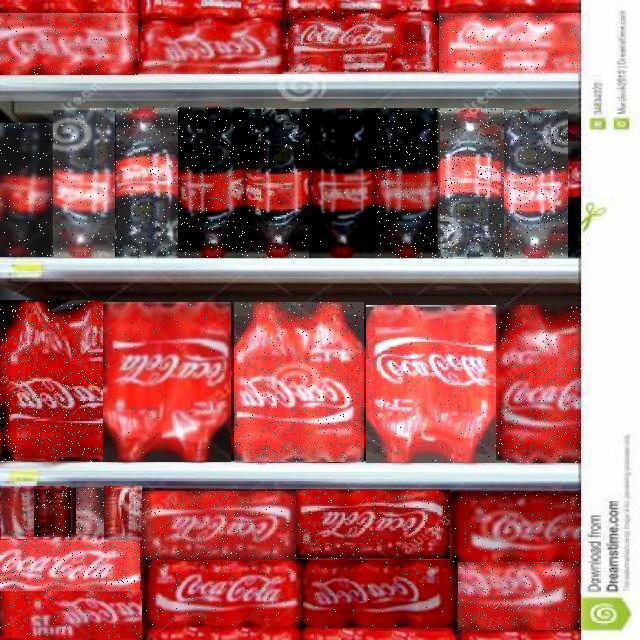Drinks: (234, 303, 364, 463), (366, 305, 497, 463), (103, 303, 231, 463), (0, 300, 103, 462), (496, 305, 581, 463), (142, 491, 296, 560), (296, 490, 450, 559), (303, 561, 457, 629), (179, 107, 245, 258), (244, 108, 310, 258), (374, 108, 440, 258), (439, 108, 505, 258), (146, 562, 300, 626), (309, 108, 374, 258), (286, 11, 439, 73), (504, 110, 568, 258), (53, 108, 115, 258), (116, 108, 178, 258), (453, 493, 579, 562), (0, 13, 138, 75), (439, 13, 581, 73), (458, 562, 580, 630), (140, 18, 286, 74), (0, 123, 54, 257), (0, 540, 140, 591), (0, 591, 142, 639), (104, 486, 142, 540), (34, 486, 71, 537), (1, 486, 34, 539), (76, 488, 104, 534)
